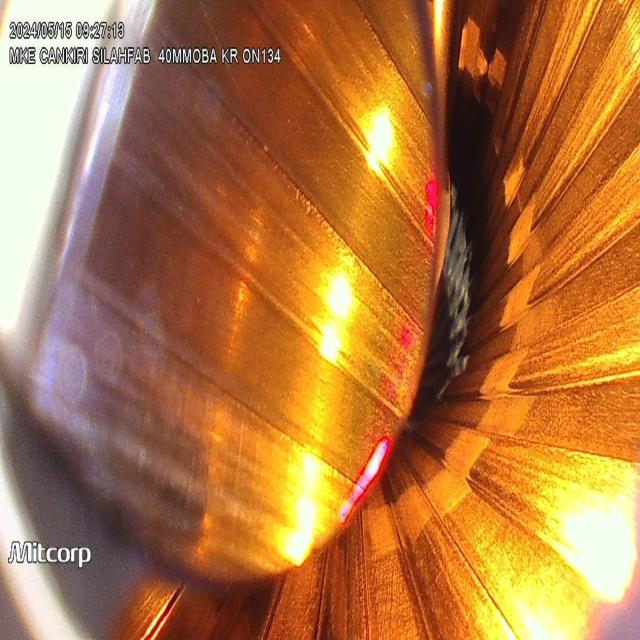hata_2.3: (251, 131, 385, 303)
